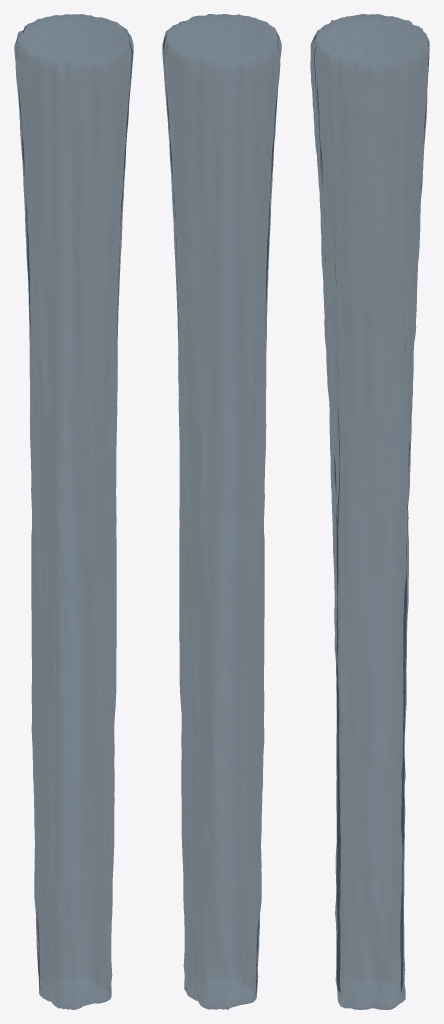
The model's file is water_1.dae.
3 views of the same model, side by side, from view 1: azimuth 30°, elevation 25°; view 2: azimuth 210°, elevation 25°; view 3: azimuth 270°, elevation 25° (orthographic).
Visible parts, largest first — view 1: Water_stream_001; view 2: Water_stream_001; view 3: Water_stream_001.
Part boxes in pixels (x1,y1,x2,y2): Water_stream_001: (14, 14, 133, 1009); Water_stream_001: (162, 14, 281, 1009); Water_stream_001: (310, 14, 429, 1009).
Bounding box in the file's own units: 0.0635 × 0.0636 × 0.5662.
